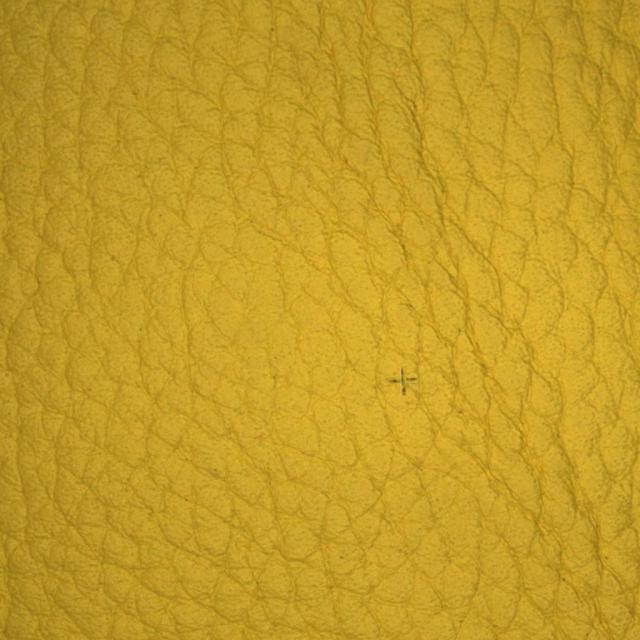Scratch: (325, 302, 490, 475)
